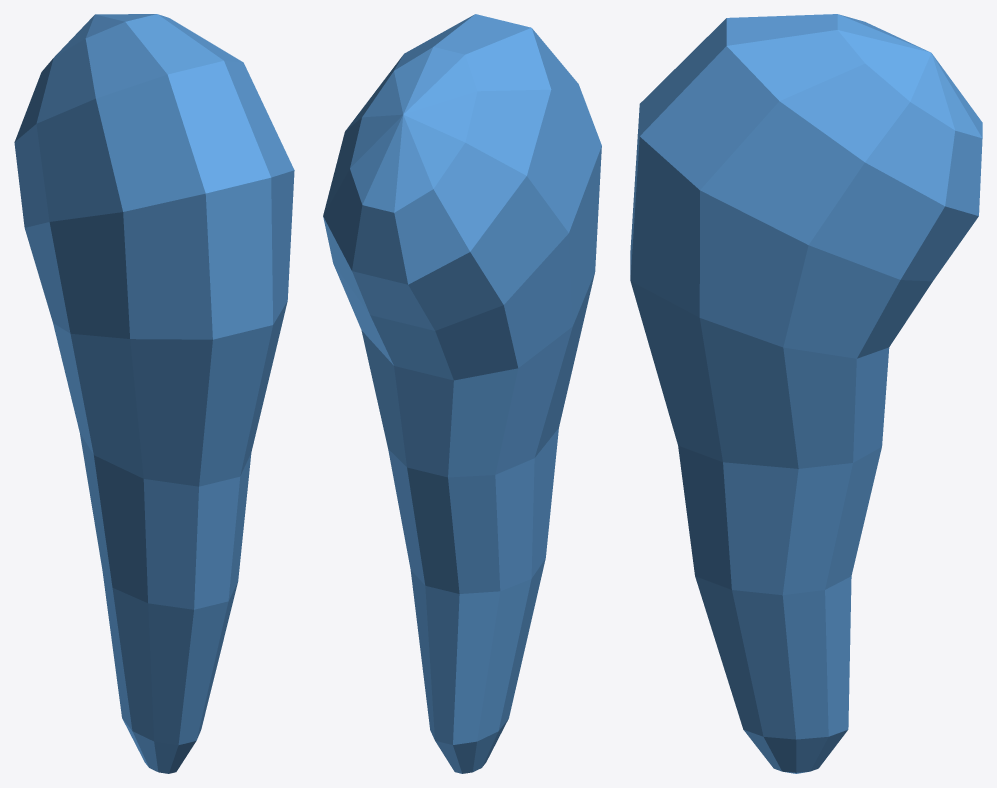
File: Drop_1_V1.fbx
3 views of the same model, side by side, from view 1: azimuth 30°, elevation 25°; view 2: azimuth 150°, elevation 25°; view 3: azimuth 270°, elevation 25° (orthographic). The views are drawn at different scales.
Parts seen in each view (by area): view 1: Water_Drops_1.001; view 2: Water_Drops_1.001; view 3: Water_Drops_1.001.
Boxes of the visible parts, x1,y1,x2,y2 form: Water_Drops_1.001: (14,14,294,773); Water_Drops_1.001: (323,14,601,773); Water_Drops_1.001: (630,14,982,773).
Bounding box in the file's own units: 31.56 × 105 × 44.66.
